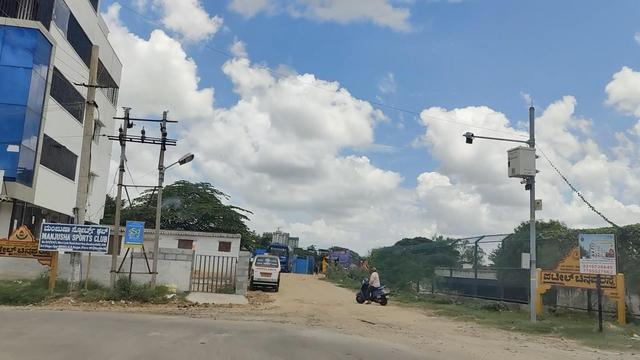LMV: (357, 267, 387, 302), (253, 256, 281, 290)
